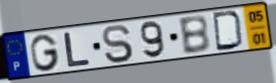9: (139, 20, 167, 59)
B: (176, 13, 213, 56)
D: (211, 10, 246, 53)
G: (29, 33, 62, 73)
L: (62, 31, 92, 68)
S: (101, 23, 136, 64)
